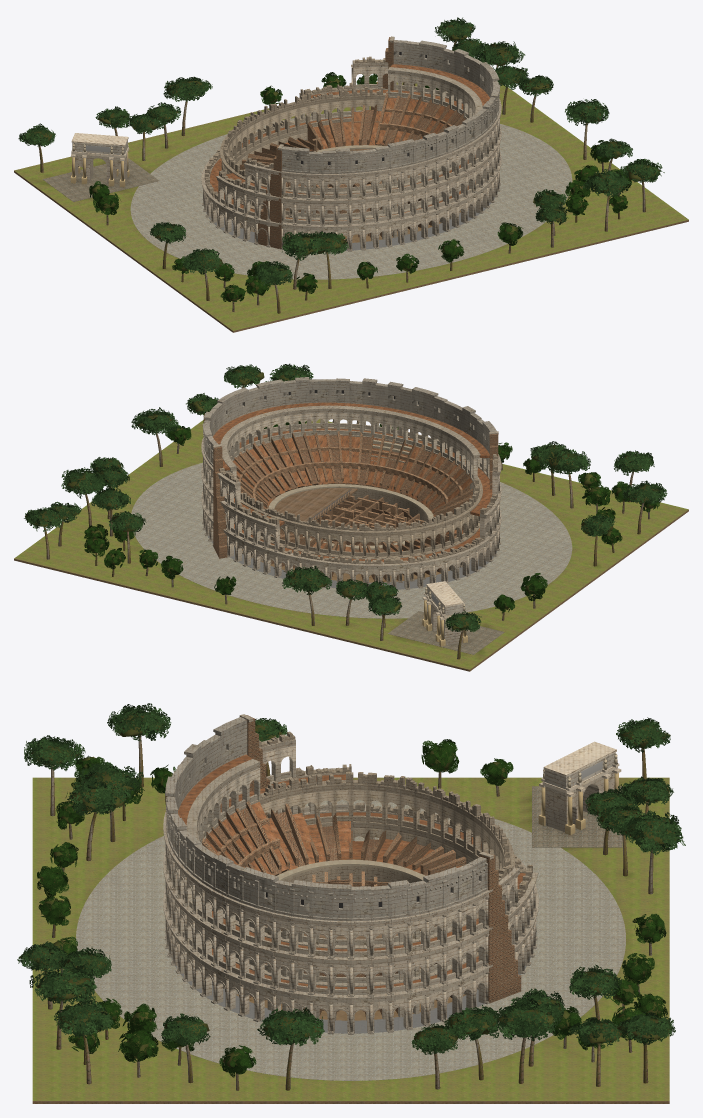
Rendered from colosseum.gltf.
3 views of the same model, one above another, from view 1: azimuth 30°, elevation 25°; view 2: azimuth 150°, elevation 25°; view 3: azimuth 270°, elevation 25° (orthographic). The views are drawn at different scales.
Visible parts, largest first — view 1: colosseum-lawn, colosseum-sampietrini, colosseum-travertine, colosseum-pine-needles, colosseum-travertine-attic, colosseum-travertine-ruin, colosseum-travertine-trim, colosseum-tree-leaves, colosseum-roman-brick, colosseum-travertine-inner, colosseum-roman-concrete, colosseum-pine-core (+7 smaller); view 2: colosseum-lawn, colosseum-sampietrini, colosseum-pine-needles, colosseum-roman-brick, colosseum-travertine-ruin, colosseum-travertine, colosseum-travertine-attic, colosseum-roman-concrete, colosseum-travertine-inner, colosseum-tree-leaves, colosseum-travertine-trim, colosseum-roman-brick-dark (+9 smaller); view 3: colosseum-lawn, colosseum-sampietrini, colosseum-travertine, colosseum-pine-needles, colosseum-travertine-attic, colosseum-travertine-ruin, colosseum-tree-leaves, colosseum-roman-brick, colosseum-travertine-trim, colosseum-travertine-inner, colosseum-roman-concrete, colosseum-pine-core (+8 smaller).
Part boxes in pixels (x1,y1,x2,y2): colosseum-lawn: [14, 82, 688, 330]; colosseum-sampietrini: [130, 116, 572, 279]; colosseum-travertine: [71, 36, 500, 251]; colosseum-pine-needles: [18, 17, 664, 285]; colosseum-travertine-attic: [72, 40, 500, 174]; colosseum-travertine-ruin: [204, 56, 387, 237]; colosseum-travertine-trim: [201, 59, 501, 239]; colosseum-tree-leaves: [89, 59, 631, 301]; colosseum-roman-brick: [240, 37, 463, 249]; colosseum-travertine-inner: [290, 67, 482, 241]; colosseum-roman-concrete: [210, 64, 489, 220]; colosseum-pine-core: [25, 25, 659, 282]; colosseum-lawn: [14, 419, 688, 669]; colosseum-sampietrini: [131, 462, 572, 618]; colosseum-pine-needles: [24, 363, 667, 632]; colosseum-roman-brick: [213, 431, 498, 581]; colosseum-travertine-ruin: [219, 454, 498, 583]; colosseum-travertine: [202, 419, 500, 644]; colosseum-travertine-attic: [202, 377, 496, 615]; colosseum-roman-concrete: [213, 402, 492, 562]; colosseum-travertine-inner: [220, 405, 480, 494]; colosseum-tree-leaves: [84, 421, 659, 613]; colosseum-travertine-trim: [201, 402, 501, 579]; colosseum-roman-brick-dark: [236, 435, 467, 552]; colosseum-lawn: [32, 777, 669, 1100]; colosseum-sampietrini: [76, 799, 625, 1080]; colosseum-travertine: [164, 714, 621, 1034]; colosseum-pine-needles: [17, 703, 685, 1054]; colosseum-travertine-attic: [165, 717, 615, 921]; colosseum-travertine-ruin: [259, 731, 532, 989]; colosseum-tree-leaves: [37, 739, 667, 1077]; colosseum-roman-brick: [202, 715, 521, 1016]; colosseum-travertine-trim: [163, 737, 538, 1017]; colosseum-travertine-inner: [186, 759, 466, 1020]; colosseum-roman-concrete: [178, 754, 525, 989]; colosseum-pine-core: [20, 712, 677, 1050].
Size of the model in its own units: 134 by 27.4 by 112.
Materials: 26 (23 with a texture image).
